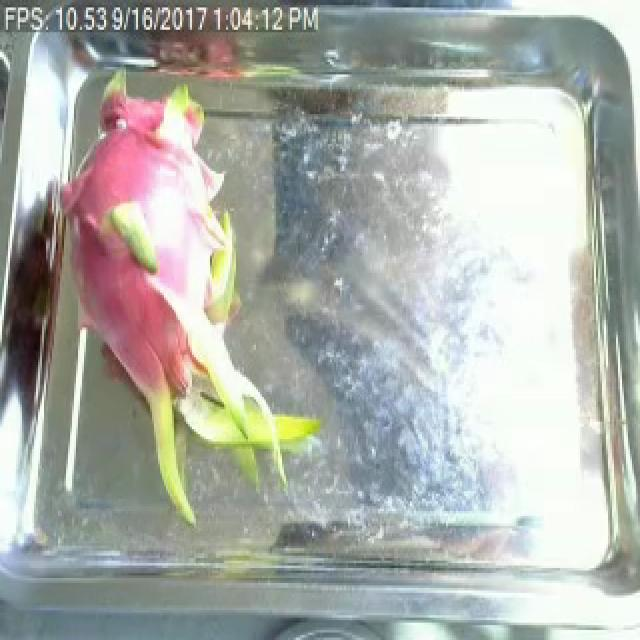fruit: (34, 104, 336, 526)
